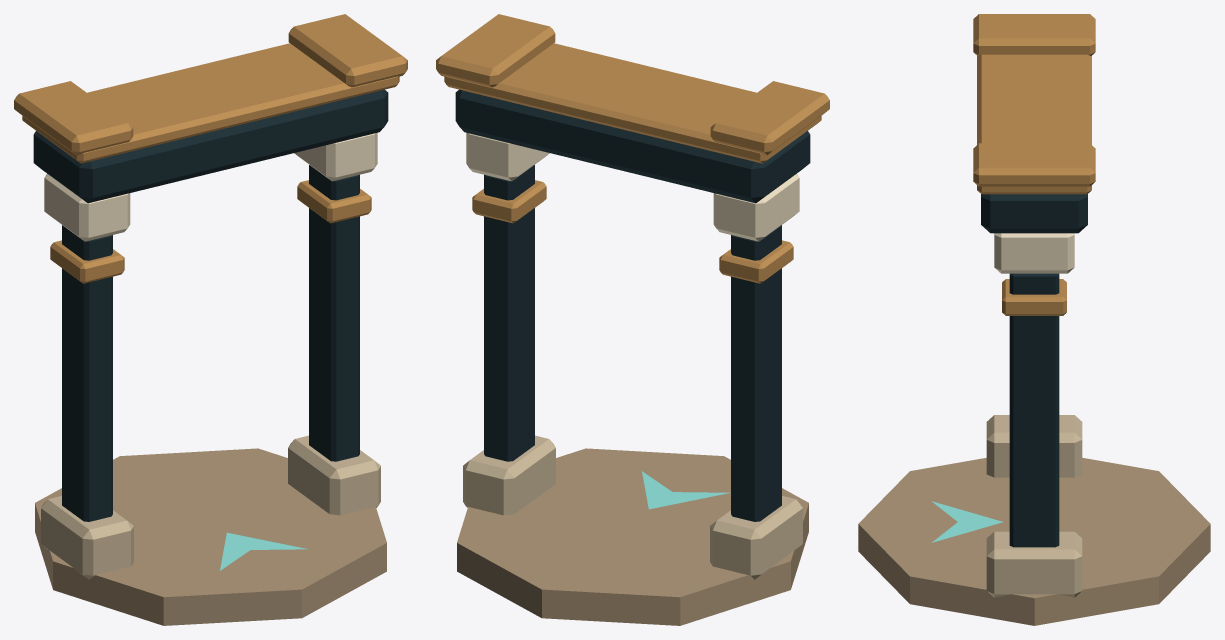
The model's file is Environment_SpawnGate.fbx.
The picture shows the model from 3 angles, left to right: view 1: azimuth 30°, elevation 25°; view 2: azimuth 150°, elevation 25°; view 3: azimuth 270°, elevation 25°; orthographic projection. The views are drawn at different scales.
Visible parts, largest first — view 1: Environment_SpawnGate; view 2: Environment_SpawnGate; view 3: Environment_SpawnGate.
Part boxes in pixels (x1,y1,x2,y2): Environment_SpawnGate: [14, 14, 407, 625]; Environment_SpawnGate: [436, 14, 829, 625]; Environment_SpawnGate: [858, 14, 1210, 625].
Size of the model in its own units: 0.98 by 1.33 by 0.92.
